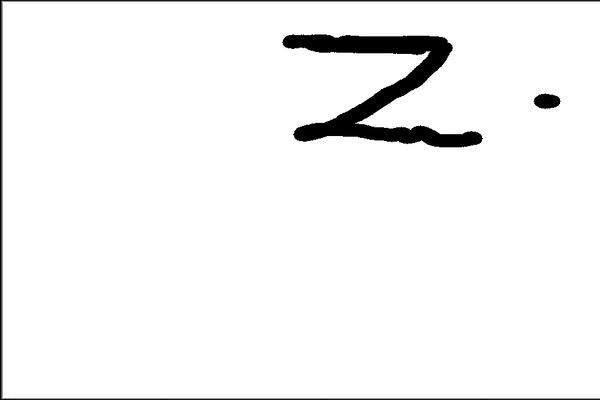Z: (275, 24, 489, 151)
